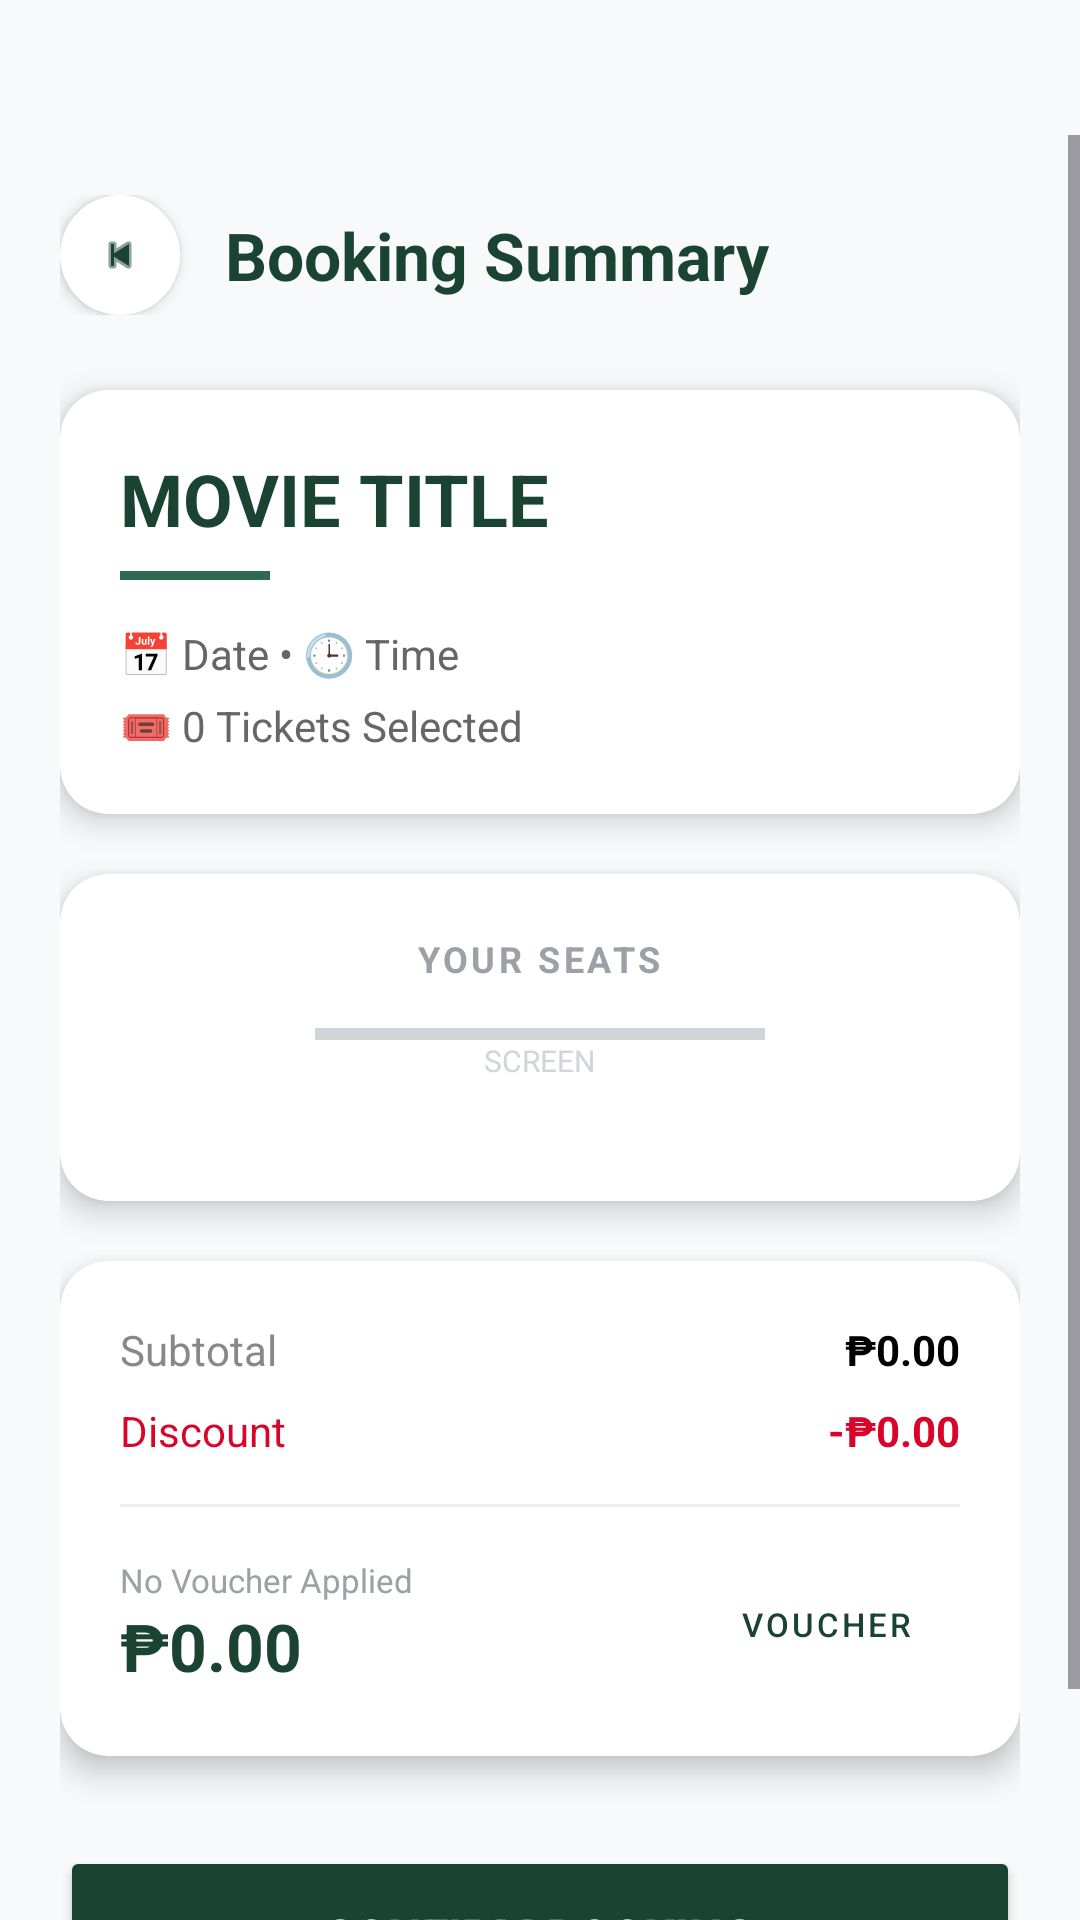

Icons on this 1080×1920 Android screen, each with the point to tap as (x,y):
previous: (106,255)
